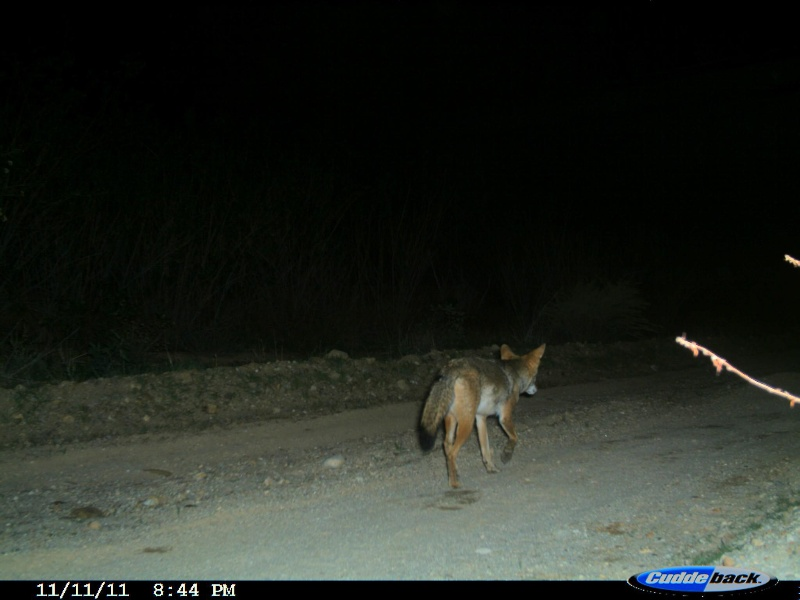coyote: (414, 337, 557, 502)
